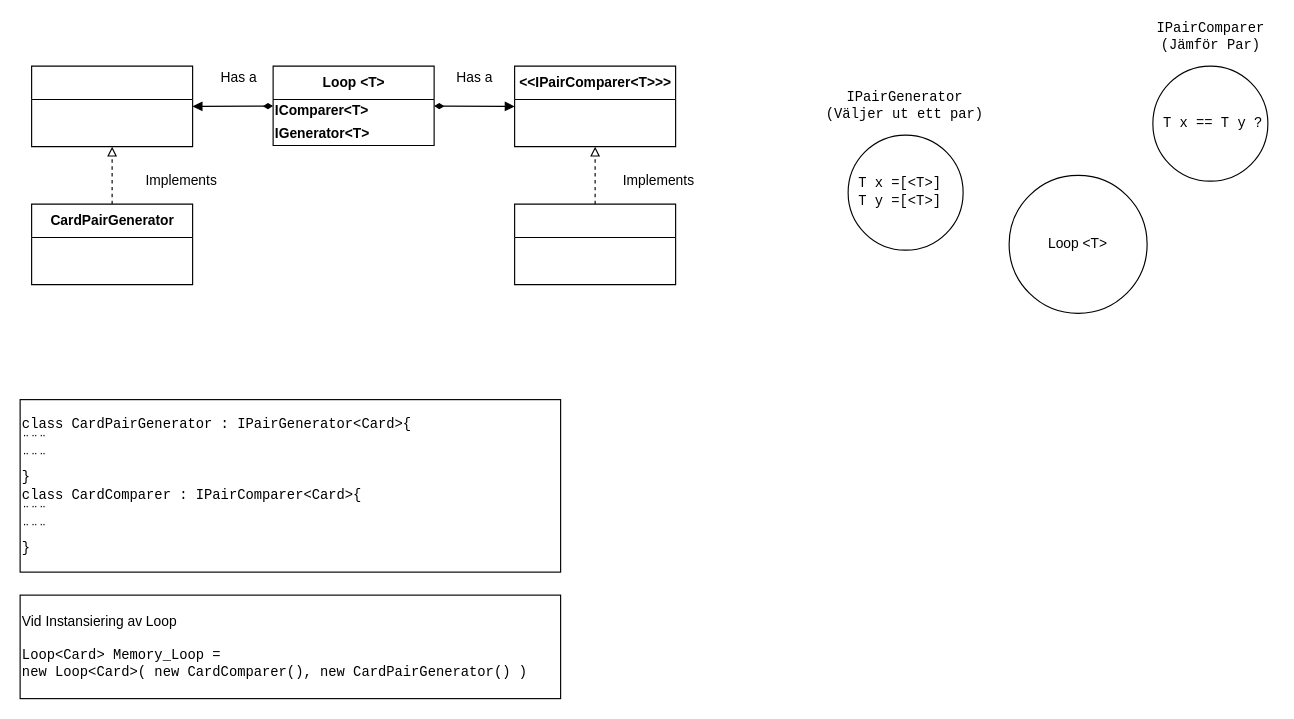
Some shapes in this 1294 by 719 pixel diagram are drawn without their labels. The shapes that lost their labels are listed below. From the top down, each one's box as (x1, y1, x2, y2) in pixels, then its label:
(30, 65, 193, 147): <<IPairGenerator<T>>>
(513, 203, 676, 285): CardComparer
